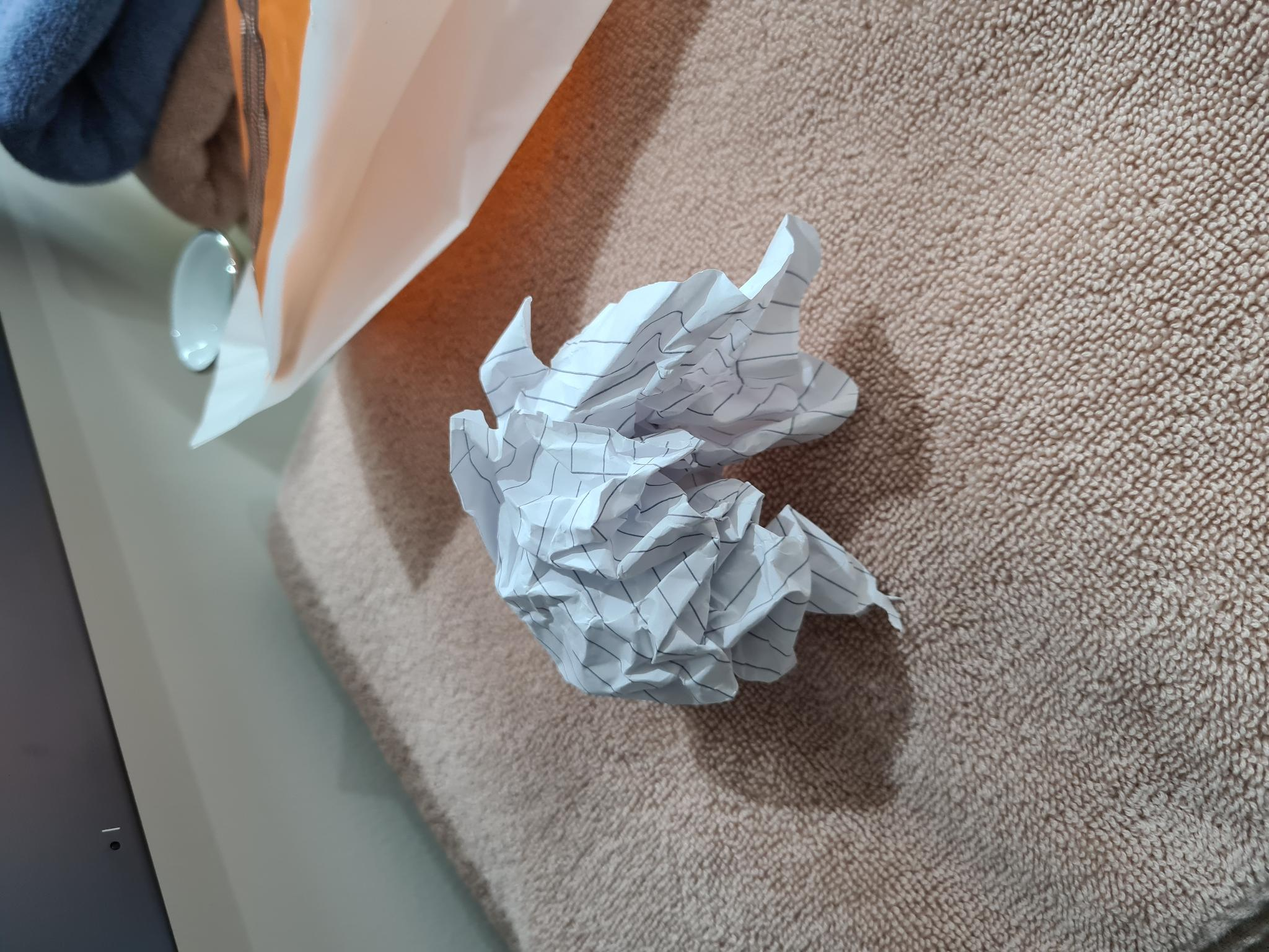Kertas: (228, 449, 755, 900)
